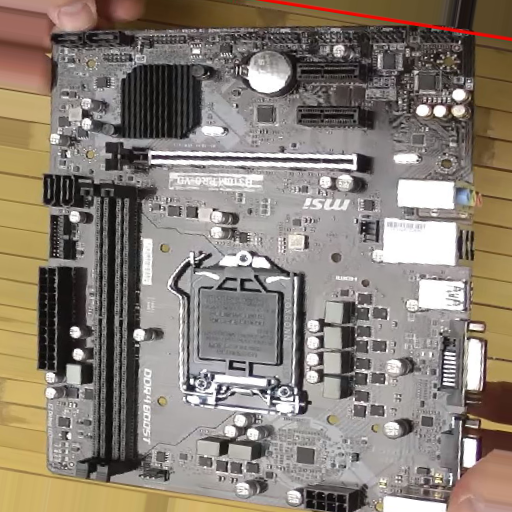CPU: (186, 251, 301, 412)
GPU: (103, 141, 365, 174)
MOTHERBOARD: (33, 26, 477, 512)
RAM: (75, 184, 140, 482)
